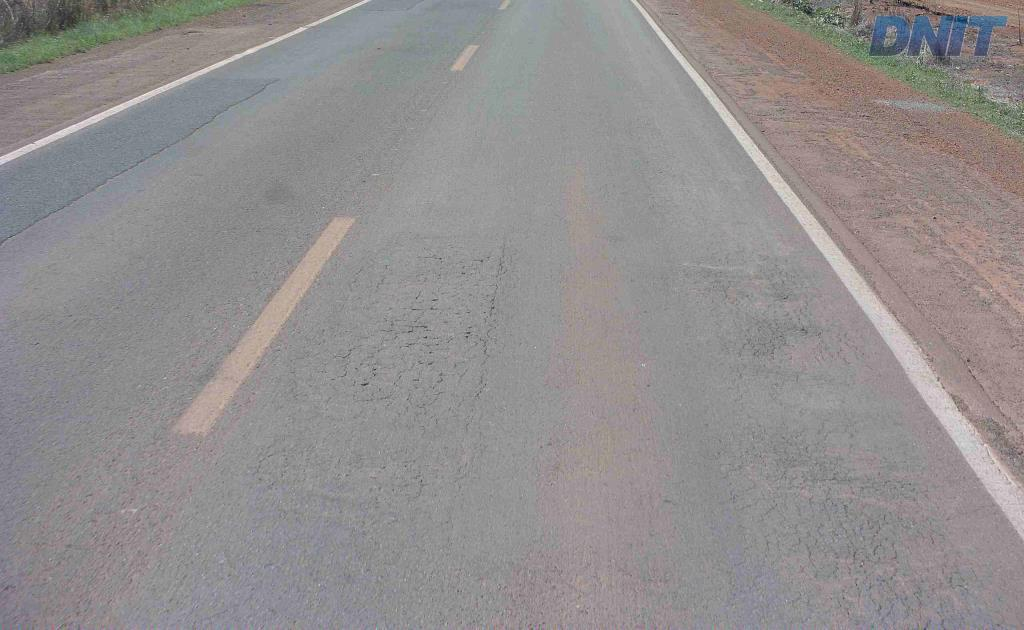crack: (772, 444, 859, 488), (741, 318, 823, 360), (830, 511, 889, 568)
